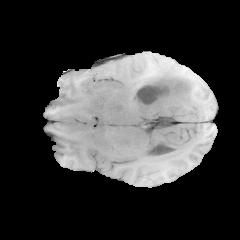glioma: (133, 68, 196, 108)
